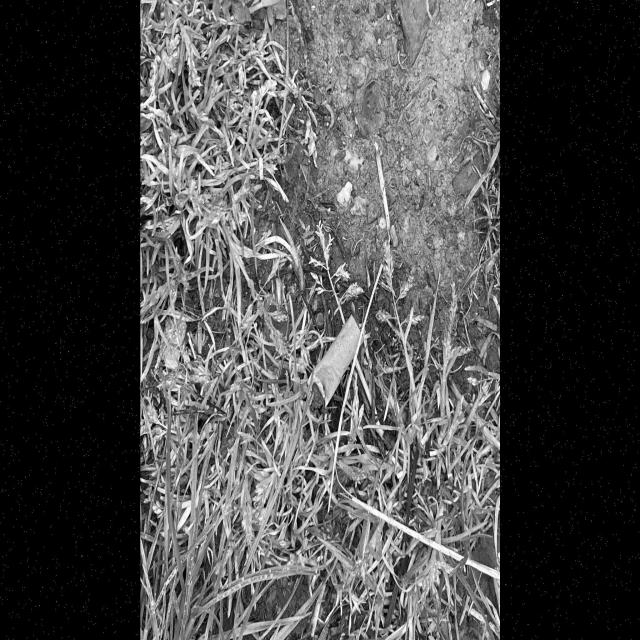other waste: (307, 313, 364, 414)
